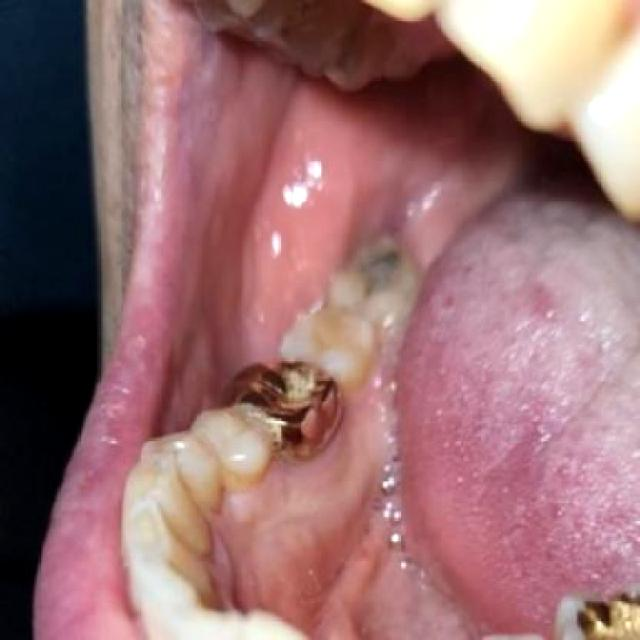Plaque: (358, 250, 402, 308)
